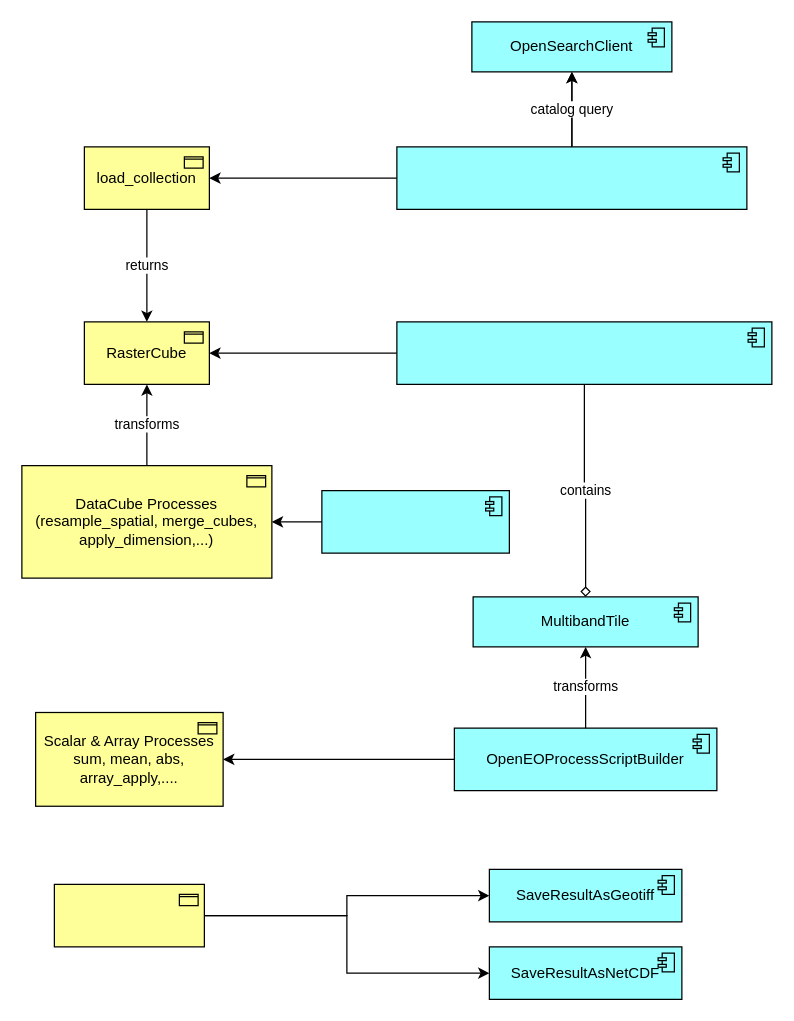
This 794x1021 diagram has some shape labels left out. The box of each missing label's shape, as (x1, y1, x2, y2) in pixels:
FileLayerProvider LoadCollectionFromAssets: (396, 146, 747, 209)
MultibandTileLayerRDD<SpacetimeKey> With Metadata: (396, 321, 772, 384)
OpenEOProcesses: (321, 489, 509, 553)
save_result: (53, 883, 204, 947)
